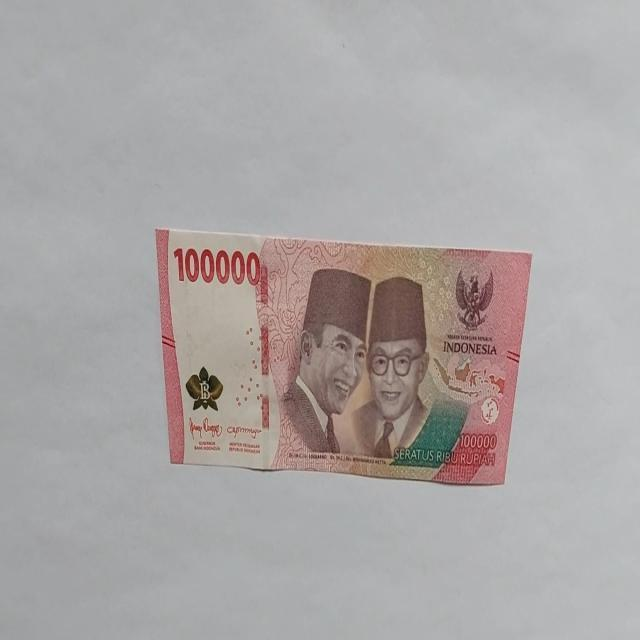seratus ribu rupiah: (155, 226, 533, 486), (278, 266, 372, 462)
